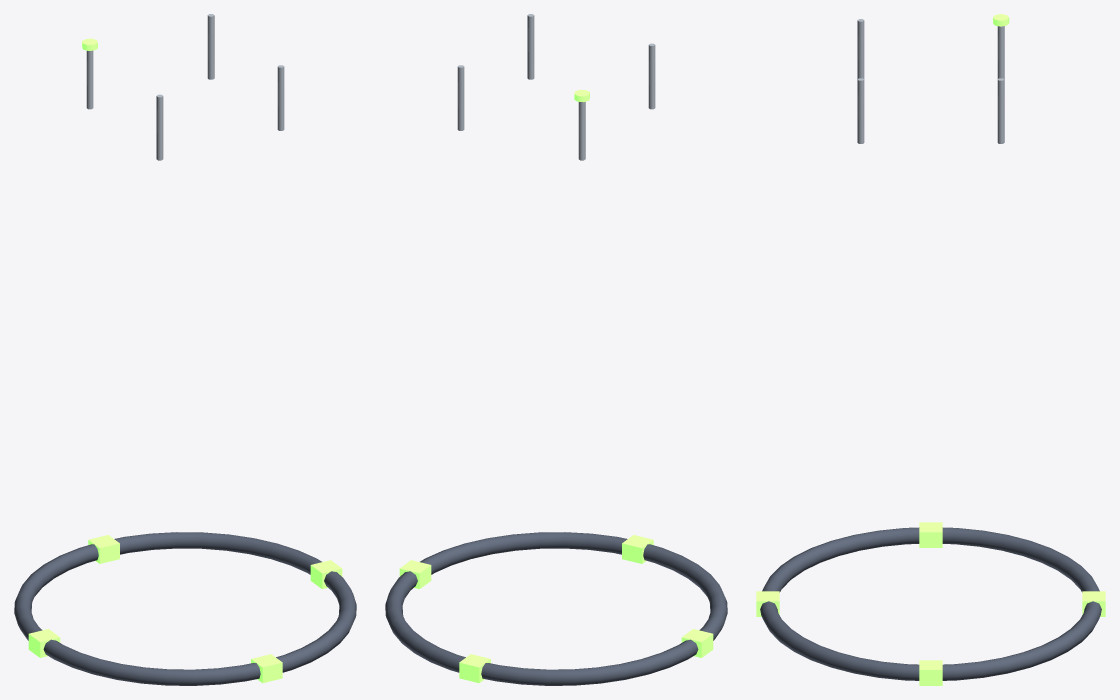
File: tower_detector_field_s3.glb
3 views of the same model, side by side, from view 1: azimuth 30°, elevation 25°; view 2: azimuth 150°, elevation 25°; view 3: azimuth 270°, elevation 25° (orthographic).
Parts seen in each view (by area): view 1: detector_base_ring, detector_base_node3, detector_base_node1, detector_base_node0, detector_base_node2, detector_stub3, detector_stub1, detector_stub2; view 2: detector_base_ring, detector_base_node1, detector_base_node3, detector_base_node0, detector_base_node2, detector_stub1, detector_stub2, detector_stub3; view 3: detector_base_ring, detector_base_node0, detector_base_node2.
Boxes of the visible parts, box(x1,y1,x2,y2) form: detector_base_ring: box(14, 532, 356, 685); detector_base_node3: box(251, 654, 282, 683); detector_base_node1: box(88, 535, 119, 563); detector_base_node0: box(28, 629, 60, 657); detector_base_node2: box(310, 560, 342, 589); detector_stub3: box(156, 94, 163, 160); detector_stub1: box(207, 14, 214, 79); detector_stub2: box(277, 65, 284, 130); detector_base_ring: box(385, 532, 727, 685); detector_base_node1: box(459, 654, 490, 683); detector_base_node3: box(622, 535, 653, 563); detector_base_node0: box(681, 629, 713, 657); detector_base_node2: box(399, 560, 431, 589); detector_stub1: box(457, 65, 464, 130); detector_stub2: box(527, 14, 534, 79); detector_stub3: box(648, 43, 655, 109); detector_base_ring: box(760, 527, 1101, 680); detector_base_node0: box(919, 522, 942, 547); detector_base_node2: box(919, 660, 942, 685).
Size of the model in its own units: 1.2 by 2.14 by 1.2.
